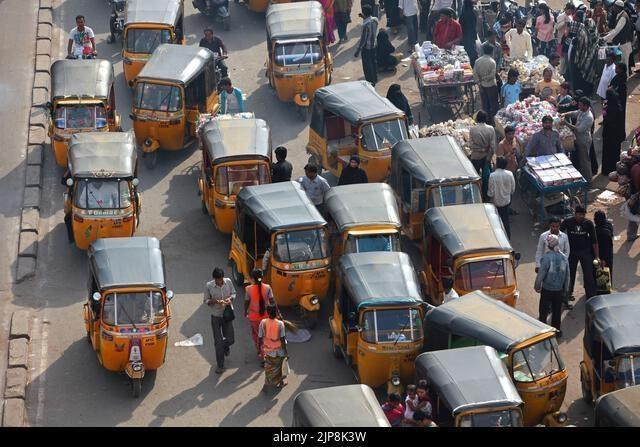keke: (84, 232, 174, 392), (331, 248, 424, 391), (130, 37, 227, 168), (61, 127, 138, 259), (305, 82, 402, 186), (424, 204, 520, 304), (199, 111, 268, 243), (263, 1, 329, 114), (49, 55, 112, 173)
